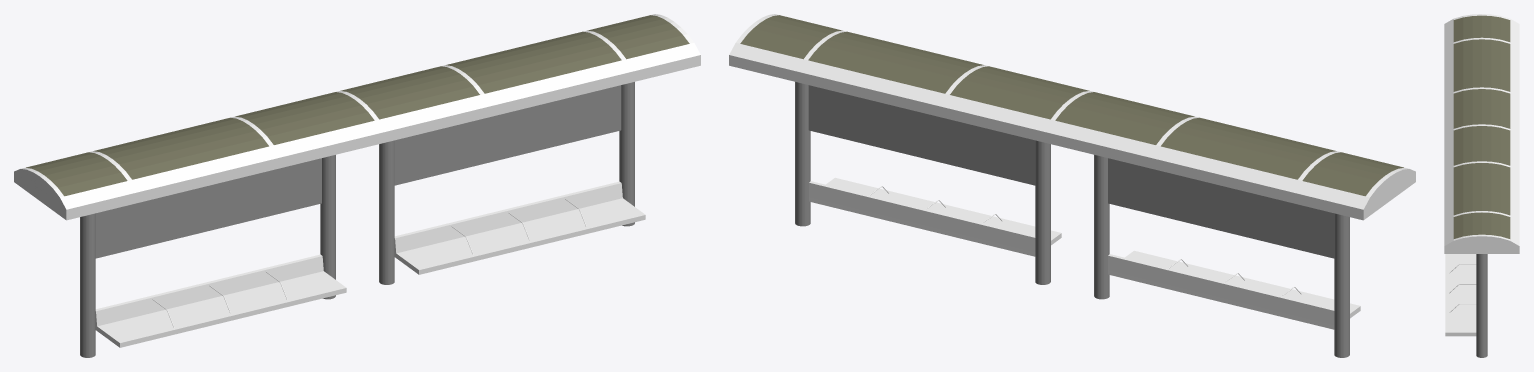
Rendered from ParadaBus.fbx.
3 views of the same model, side by side, from view 1: azimuth 30°, elevation 25°; view 2: azimuth 150°, elevation 25°; view 3: azimuth 270°, elevation 25° (orthographic). The views are drawn at different scales.
Visible parts, largest first — view 1: ParadaBus; view 2: ParadaBus; view 3: ParadaBus.
Part boxes in pixels (<box>): ParadaBus: <box>14,14,700,357</box>; ParadaBus: <box>729,14,1415,357</box>; ParadaBus: <box>1444,14,1519,357</box>.
Size of the model in its own units: 1400 by 400 by 200.
